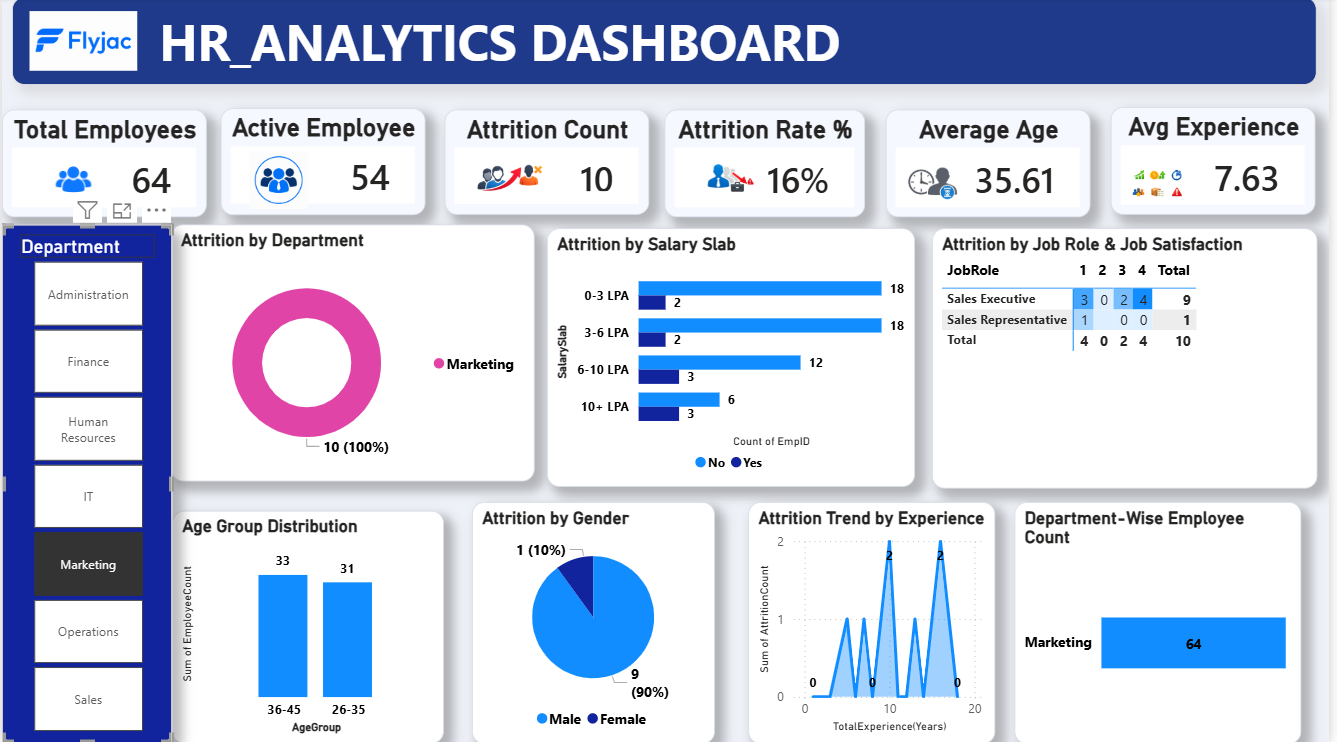

Layout of this report page (visuals, bound fields, positions):
{"tool":"powerbi","page":{"name":"Page 1","canvas":[1280,720],"ordinal":0},"visuals":[{"type":"textbox","box":[10,0,1259,85],"z":0},{"type":"image","box":[26.1,0,104.3,85.1],"z":1000},{"type":"cardVisual","title":"Total Employees","fields":{"Data":["CountNonNull(HR_Analytics.EmpID)"]},"box":[0,108.4,197.6,104.3],"z":2000},{"type":"cardVisual","title":"Attrition Count","fields":{"Data":["Sum(HR_Analytics.AttritionCount)"]},"box":[426.8,108.4,197.6,101.5],"z":3000},{"type":"cardVisual","title":"Attrition Rate %","fields":{"Data":["HR_Analytics.Attrition Rate %"]},"box":[639.5,108.4,193.5,104.3],"z":4000},{"type":"cardVisual","title":"Average Age","fields":{"Data":["Avg(HR_Analytics.Age)"]},"box":[853.5,108.4,197.6,104.3],"z":5000},{"type":"cardVisual","title":"Avg Experience","fields":{"Data":["Avg(HR_Analytics.YearsatCompany)"]},"box":[1070.3,105.7,197.6,104.3],"z":6000},{"type":"cardVisual","title":"Active Employee","fields":{"Data":["CountNonNull(HR_Analytics.EmployeeCount)"]},"box":[211.3,107,197.6,102.9],"z":7000},{"type":"image","box":[0,135.8,89.2,87.8],"z":8000},{"type":"image","box":[220.9,145.5,56.3,64.5],"z":9000},{"type":"image","box":[441.9,135.8,72.7,76.8],"z":10000},{"type":"image","box":[657.3,138.6,63.1,71.4],"z":11000},{"type":"image","box":[864.5,140,65.9,79.6],"z":12000},{"type":"image","box":[1082.7,145.5,65.9,68.6],"z":13000},{"type":"donutChart","title":"Attrition by Department","fields":{"Category":["HR_Analytics.Department"],"Y":["Sum(HR_Analytics.AttritionCount)"]},"box":[163.3,219.6,351.3,248.4],"z":14000},{"type":"clusteredBarChart","title":"Attrition by Salary Slab","fields":{"Category":["HR_Analytics.SalarySlab"],"Y":["CountNonNull(HR_Analytics.EmpID)"],"Series":["HR_Analytics.Attrition"]},"box":[525.6,223.7,355.4,249.7],"z":15000},{"type":"pivotTable","title":"Attrition by Job Role & Job Satisfaction","fields":{"Rows":["HR_Analytics.JobRole"],"Values":["Sum(HR_Analytics.AttritionCount)"],"Columns":["HR_Analytics.JobSatisfaction"]},"box":[897.4,223.7,371.9,251.1],"z":16000},{"type":"columnChart","title":"Age Group Distribution","fields":{"Category":["HR_Analytics.AgeGroup"],"Y":["Sum(HR_Analytics.EmployeeCount)"]},"box":[164.7,495.4,262.1,225],"z":17000},{"type":"pieChart","title":"Attrition by Gender","fields":{"Category":["HR_Analytics.Gender"],"Y":["Sum(HR_Analytics.AttritionCount)"]},"box":[454.2,487.1,234.6,233.3],"z":18000},{"type":"areaChart","title":"Attrition Trend by Experience","fields":{"Category":["HR_Analytics.TotalExperience(Years)"],"Y":["Sum(HR_Analytics.AttritionCount)"]},"box":[720.4,487.1,238.8,233.3],"z":19000},{"type":"funnel","title":"Department-Wise Employee Count","fields":{"Category":["HR_Analytics.Department"],"Y":["CountNonNull(HR_Analytics.EmpID)"]},"box":[977,487.1,277.2,233.3],"z":20000},{"type":"slicer","fields":{"Values":["HR_Analytics.Department"]},"box":[0,219.6,164.7,500.9],"z":22000}]}

Visuals, with their boxes in screenshot pixels (x1, y1, x2, y2), scaled from the page's 1280x720 canvas onto the 1337x742 screenshot:
textbox: {"x1": 10, "y1": 0, "x2": 1326, "y2": 88}
image: {"x1": 27, "y1": 0, "x2": 136, "y2": 88}
"Total Employees" cardVisual: {"x1": 0, "y1": 112, "x2": 206, "y2": 219}
"Attrition Count" cardVisual: {"x1": 446, "y1": 112, "x2": 652, "y2": 216}
"Attrition Rate %" cardVisual: {"x1": 668, "y1": 112, "x2": 870, "y2": 219}
"Average Age" cardVisual: {"x1": 892, "y1": 112, "x2": 1098, "y2": 219}
"Avg Experience" cardVisual: {"x1": 1118, "y1": 109, "x2": 1324, "y2": 216}
"Active Employee" cardVisual: {"x1": 221, "y1": 110, "x2": 427, "y2": 216}
image: {"x1": 0, "y1": 140, "x2": 93, "y2": 230}
image: {"x1": 231, "y1": 150, "x2": 290, "y2": 216}
image: {"x1": 462, "y1": 140, "x2": 538, "y2": 219}
image: {"x1": 687, "y1": 143, "x2": 752, "y2": 216}
image: {"x1": 903, "y1": 144, "x2": 972, "y2": 226}
image: {"x1": 1131, "y1": 150, "x2": 1200, "y2": 221}
"Attrition by Department" donutChart: {"x1": 171, "y1": 226, "x2": 538, "y2": 482}
"Attrition by Salary Slab" clusteredBarChart: {"x1": 549, "y1": 231, "x2": 920, "y2": 488}
"Attrition by Job Role & Job Satisfaction" pivotTable: {"x1": 937, "y1": 231, "x2": 1326, "y2": 489}
"Age Group Distribution" columnChart: {"x1": 172, "y1": 511, "x2": 446, "y2": 741}
"Attrition by Gender" pieChart: {"x1": 474, "y1": 502, "x2": 719, "y2": 741}
"Attrition Trend by Experience" areaChart: {"x1": 752, "y1": 502, "x2": 1002, "y2": 741}
"Department-Wise Employee Count" funnel: {"x1": 1021, "y1": 502, "x2": 1310, "y2": 741}
slicer - HR_Analytics.Department: {"x1": 0, "y1": 226, "x2": 172, "y2": 741}
